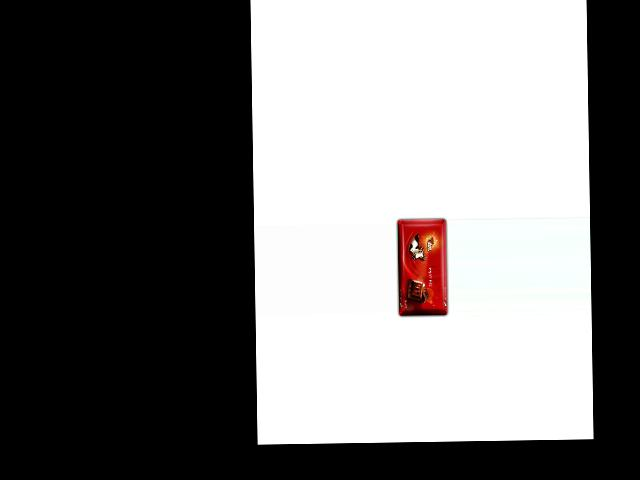chocolate: (393, 213, 447, 317)
